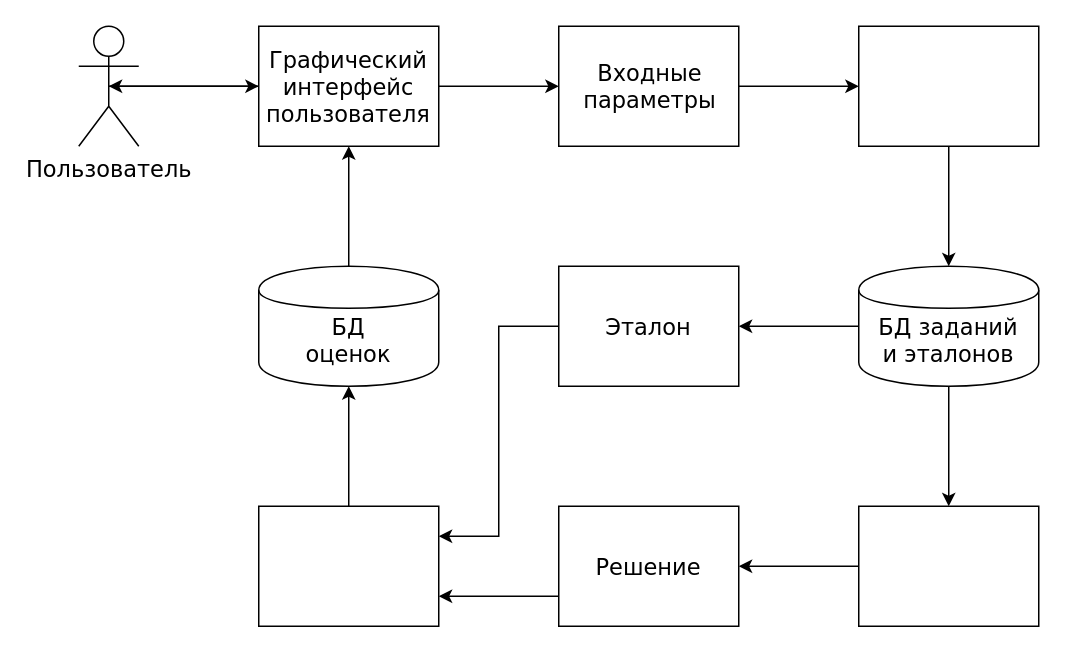
Image size: 1065x653. Some labels were removed from this diagram. The shapes that lost their labels are listed below. From the top down, each one's centre as x and y in pixels, then its label:
pixel 948 85: Формирование заданий и эталонов
pixel 348 565: Оценка качества
pixel 948 565: Задание
